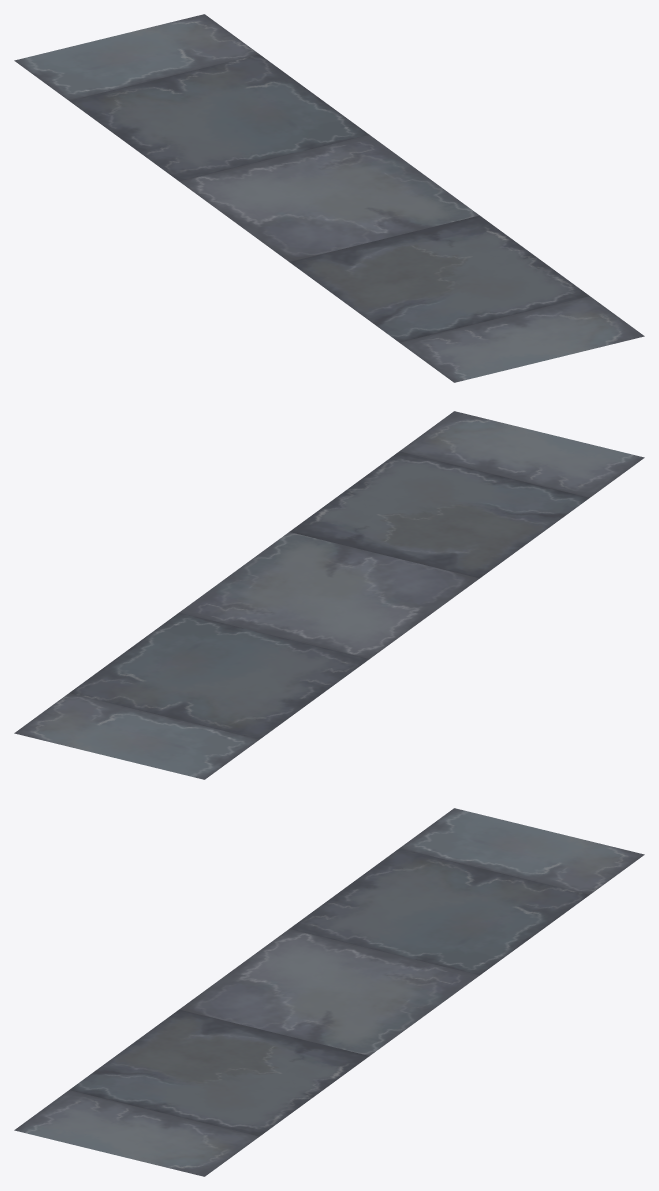
File: Castle Ground X Mix 1x4.fbx
The picture shows the model from 3 angles, top to bottom: view 1: azimuth 30°, elevation 25°; view 2: azimuth 150°, elevation 25°; view 3: azimuth 330°, elevation 25°; orthographic projection.
Visible parts, largest first — view 1: Castle Ground X Mix 1x4; view 2: Castle Ground X Mix 1x4; view 3: Castle Ground X Mix 1x4.
Part boxes in pixels (x1,y1,x2,y2): Castle Ground X Mix 1x4: [14, 14, 644, 382]; Castle Ground X Mix 1x4: [14, 411, 644, 779]; Castle Ground X Mix 1x4: [14, 808, 644, 1176].
Size of the model in its own units: 0.75 by 7.15e-07 by 3.
